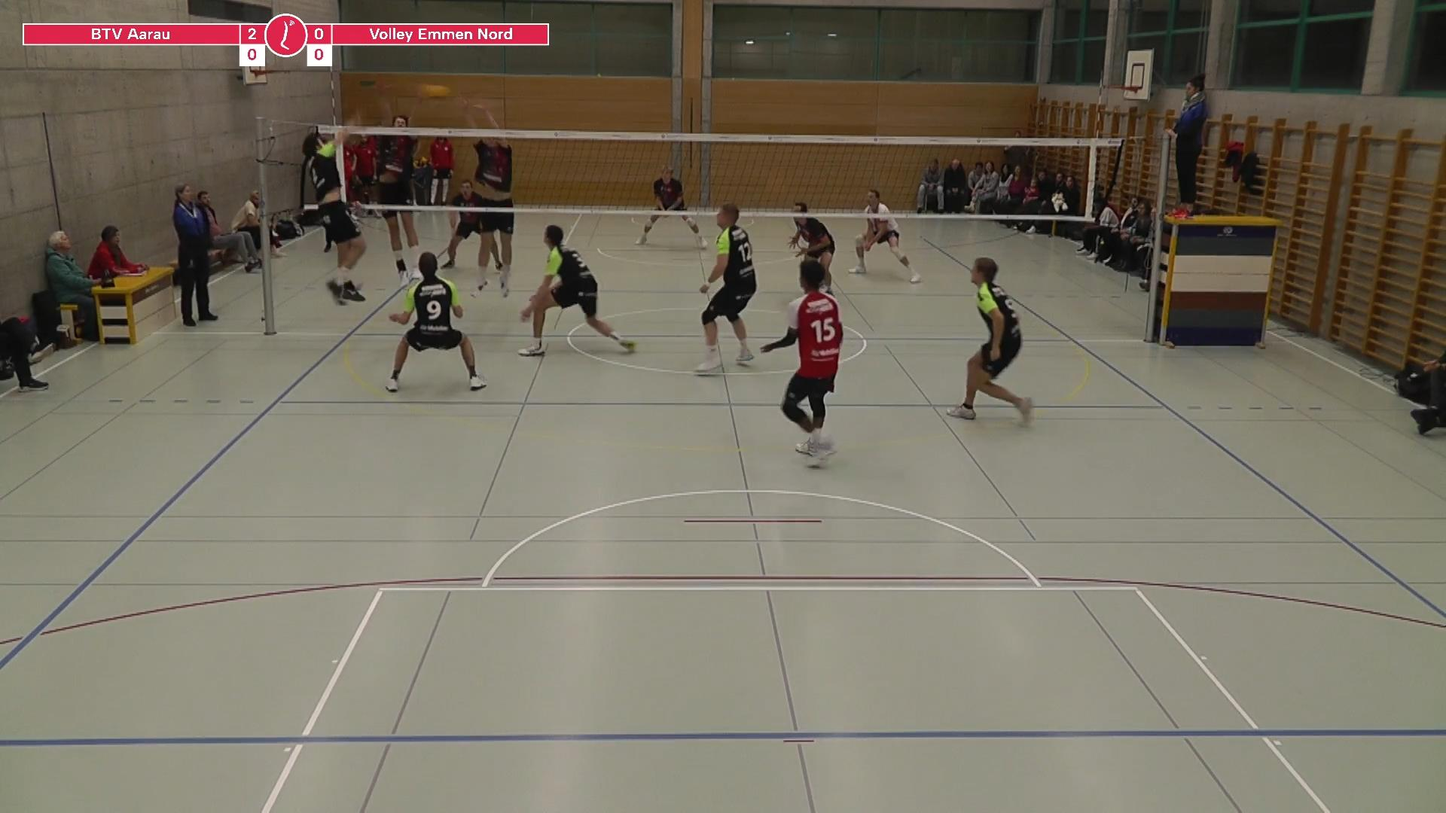Attack: (298, 97, 387, 310)
Block: (453, 107, 520, 313), (372, 112, 432, 284)
Player: (761, 258, 842, 467), (519, 225, 635, 356), (948, 257, 1032, 425), (386, 252, 486, 391), (695, 202, 756, 374), (850, 189, 921, 283), (636, 166, 706, 247), (788, 202, 834, 293), (442, 181, 481, 268)
ball: (408, 75, 452, 106)
